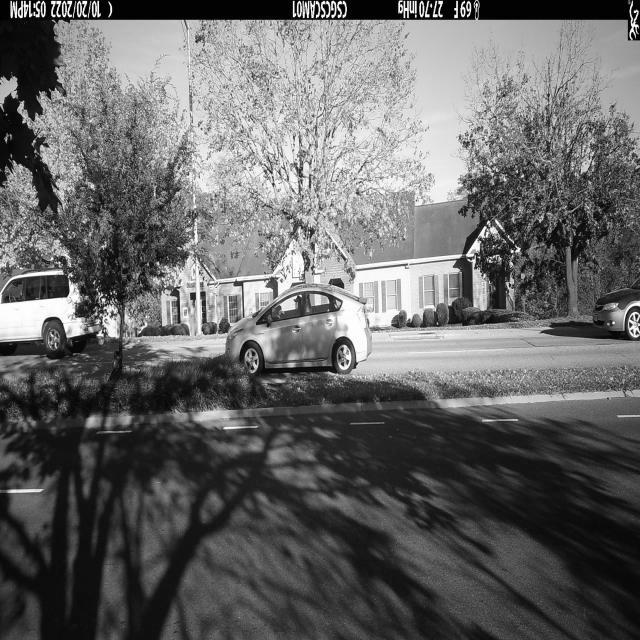Hatchback: (225, 284, 373, 376)
